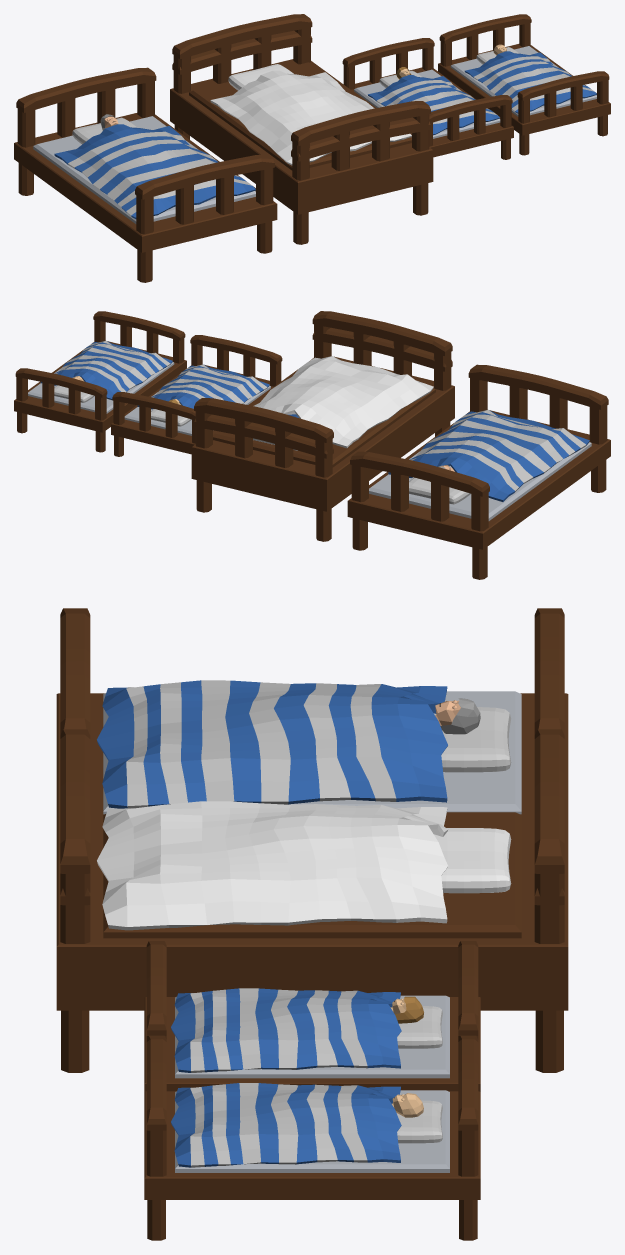
File: narrative bed.fbx
3 views of the same model, one above another, from view 1: azimuth 30°, elevation 25°; view 2: azimuth 150°, elevation 25°; view 3: azimuth 270°, elevation 25° (orthographic). The views are drawn at different scales.
Parts seen in each view (by area): view 1: bed full elderly, bed frame, bed full child bald, bed full child hair, bed full adult, bed cover, pillow; view 2: bed full elderly, bed frame, bed full child bald, bed full adult, bed full child hair, bed cover; view 3: bed full elderly, bed frame, bed full child bald, bed cover, bed full child hair, bed full adult, pillow.
Boxes of the visible parts, x1,y1,x2,y2 form: bed full elderly: (14,67,277,282); bed frame: (170,14,433,229); bed full child bald: (438,14,610,155); bed full child hair: (342,38,513,159); bed full adult: (170,30,433,244); bed cover: (210,70,411,165); pillow: (228,64,293,90); bed full elderly: (347,364,610,579); bed frame: (191,311,454,525); bed full child bald: (14,311,186,452); bed full adult: (191,327,454,541); bed full child hair: (111,335,282,456); bed cover: (253,356,433,448); bed full elderly: (56,608,568,814); bed frame: (56,729,568,1041); bed full child bald: (144,1035,480,1240); bed cover: (97,801,448,930); bed full child hair: (144,941,480,1091); bed full adult: (56,888,568,1072); pillow: (434,828,511,893).
Bounding box in the file's own units: 937 × 206 × 423.
